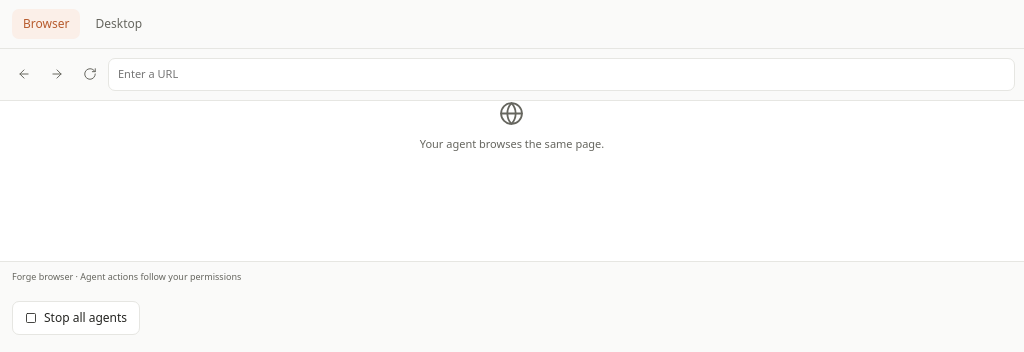
desktop evidence view ownership and native surface release › requires a positive native hide acknowledgment before displaying pixels ({})
Click the button "Desktop" at (119, 24), box [84, 9, 153, 39]
Wait 1 ms
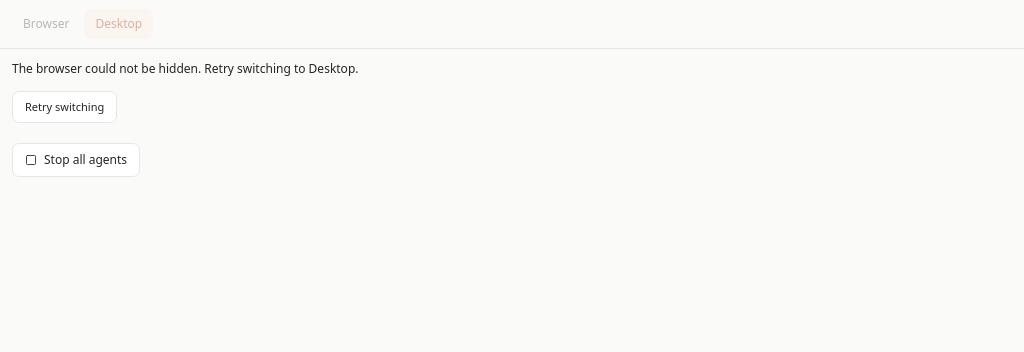
expect the text "The browser could not be hidden. Retry switching to Desktop." is shown: met, box [12, 60, 358, 77]
